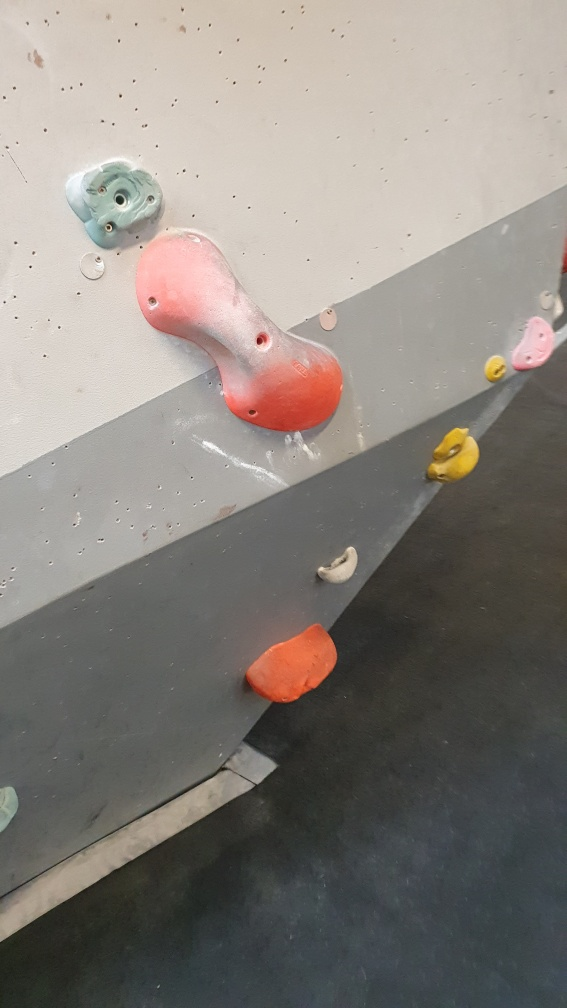Pinch: (137, 228, 344, 431)
